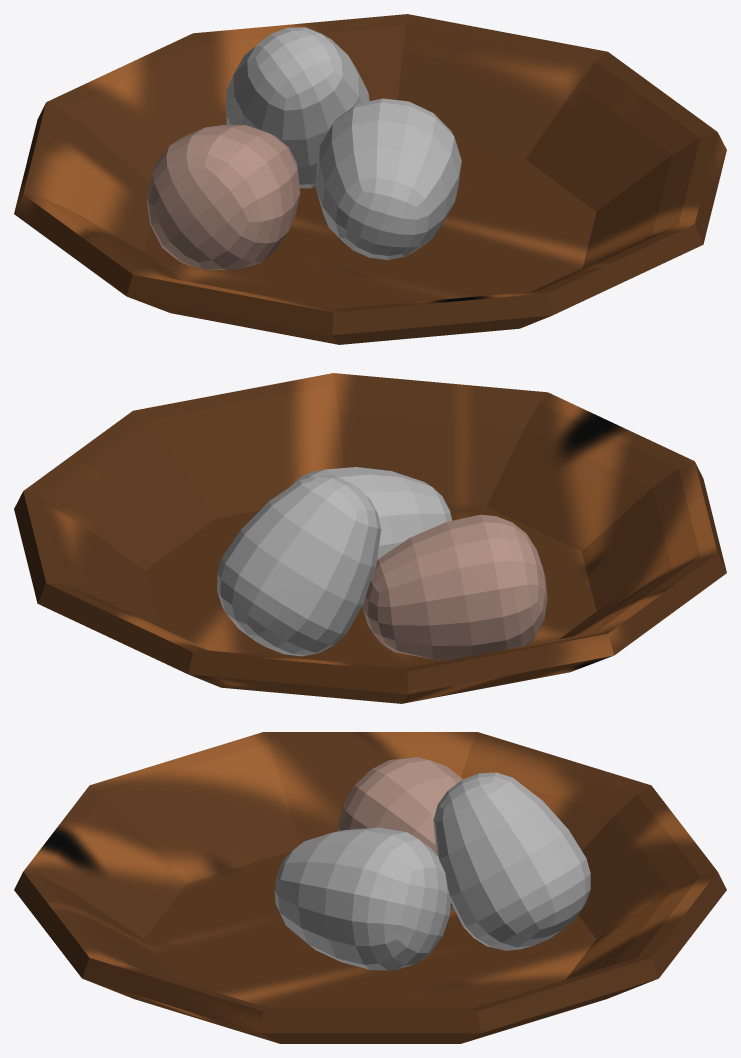
File: egg_remain3.obj
3 renders of one model, top to bottom at view 1: azimuth 30°, elevation 25°; view 2: azimuth 150°, elevation 25°; view 3: azimuth 270°, elevation 25°, orthographic. The views are drawn at different scales.
Parts seen in each view (by area): view 1: Egg_Whole_Cube.003; view 2: Egg_Whole_Cube.003; view 3: Egg_Whole_Cube.003.
Part boxes in pixels (left/top/right/bottom): Egg_Whole_Cube.003: left=14, top=14, right=726, bottom=344; Egg_Whole_Cube.003: left=14, top=373, right=726, bottom=703; Egg_Whole_Cube.003: left=14, top=732, right=726, bottom=1043.
Bounding box in the file's own units: 1.74 × 0.5022 × 1.83.
Materials: 1 (1 with a texture image).
